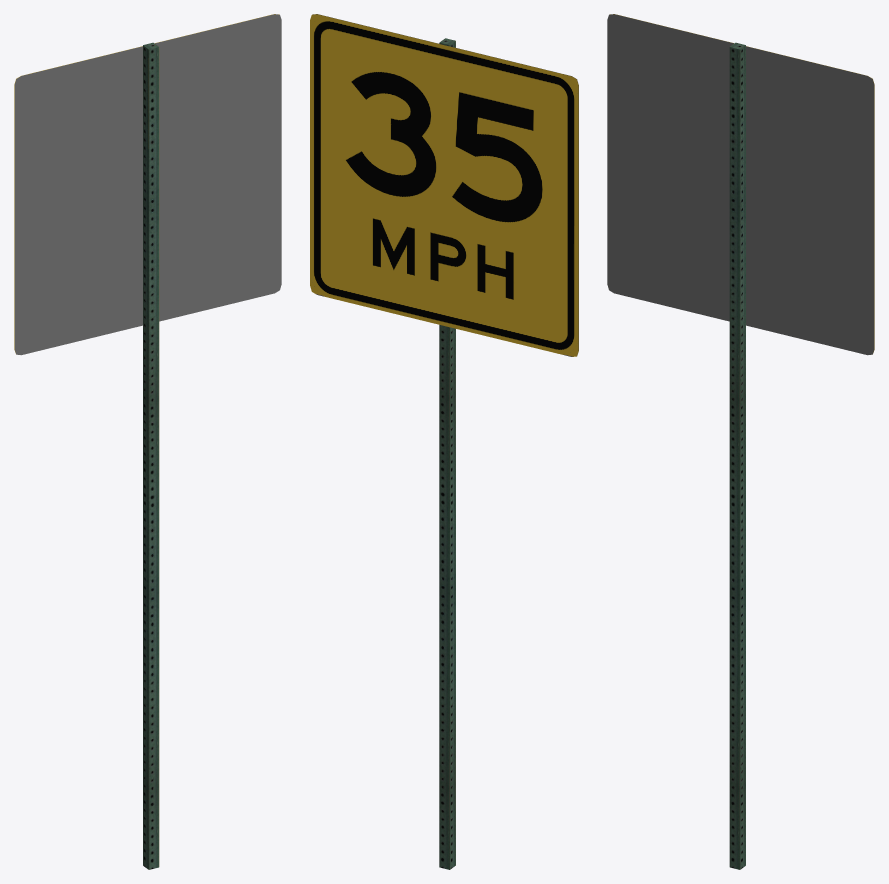
The model's file is GSDSignSquare.FBX.
The picture shows the model from 3 angles, left to right: view 1: azimuth 30°, elevation 25°; view 2: azimuth 150°, elevation 25°; view 3: azimuth 330°, elevation 25°; orthographic projection.
Parts seen in each view (by area): view 1: GSDSignSquare; view 2: GSDSignSquare; view 3: GSDSignSquare.
Boxes of the visible parts, left/top/right/bottom form: GSDSignSquare: left=14, top=14, right=281, bottom=869; GSDSignSquare: left=310, top=14, right=578, bottom=869; GSDSignSquare: left=607, top=14, right=874, bottom=869.
Size of the model in its own units: 0.7664 by 2.25 by 0.031.
1 material, 1 textured.
